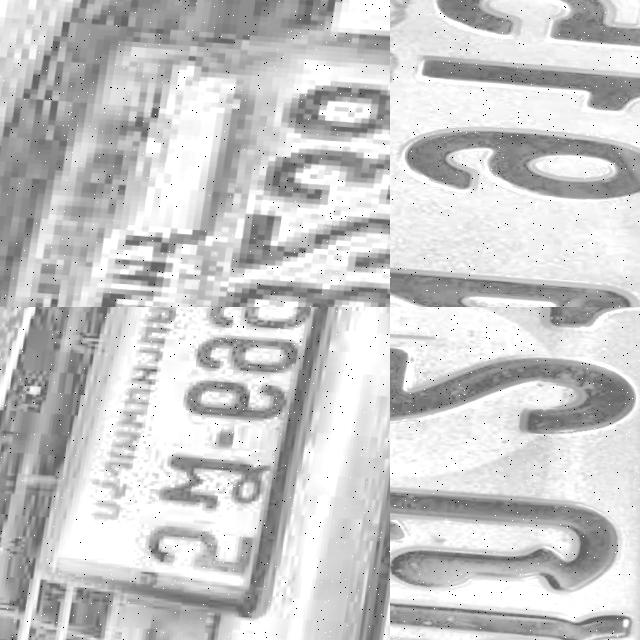license-plate: (0, 0, 390, 307), (20, 307, 379, 630), (390, 307, 640, 640), (390, 0, 640, 307)
